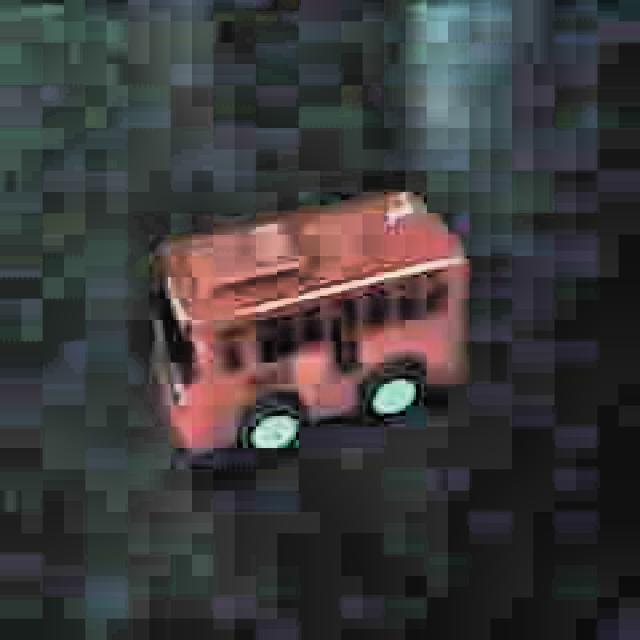bus: (143, 181, 473, 468)
